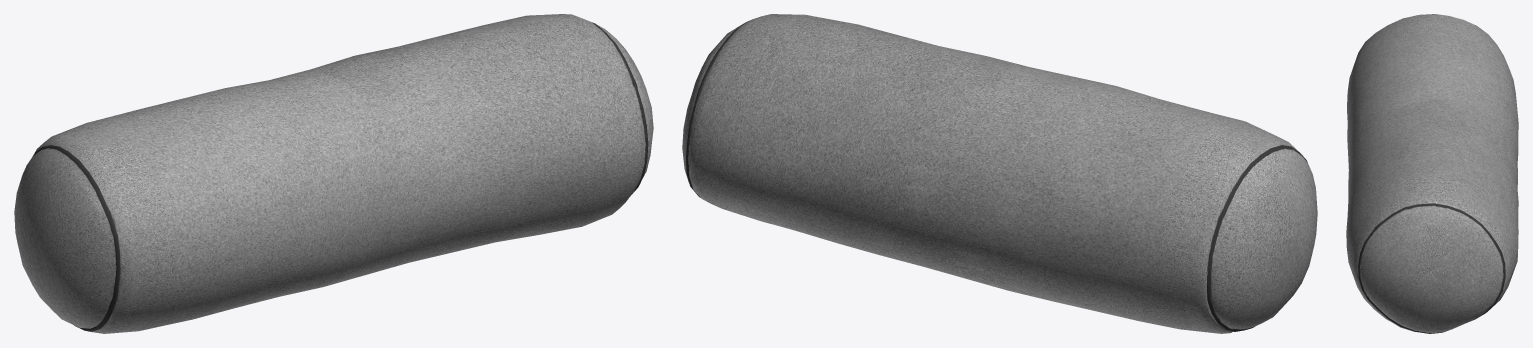
File: blaskata_poduszka_50569513.glb
3 renders of one model, left to right at view 1: azimuth 30°, elevation 25°; view 2: azimuth 150°, elevation 25°; view 3: azimuth 270°, elevation 25°, orthographic. The views are drawn at different scales.
Parts seen in each view (by area): view 1: blaskata_poduszka_50569513; view 2: blaskata_poduszka_50569513; view 3: blaskata_poduszka_50569513.
Boxes of the visible parts, bbox=[...] form: blaskata_poduszka_50569513: bbox=[14, 14, 653, 333]; blaskata_poduszka_50569513: bbox=[682, 14, 1317, 333]; blaskata_poduszka_50569513: bbox=[1346, 14, 1518, 333].
Bounding box in the file's own units: 0.8085 × 0.2523 × 0.2744.
1 material, 1 textured.
